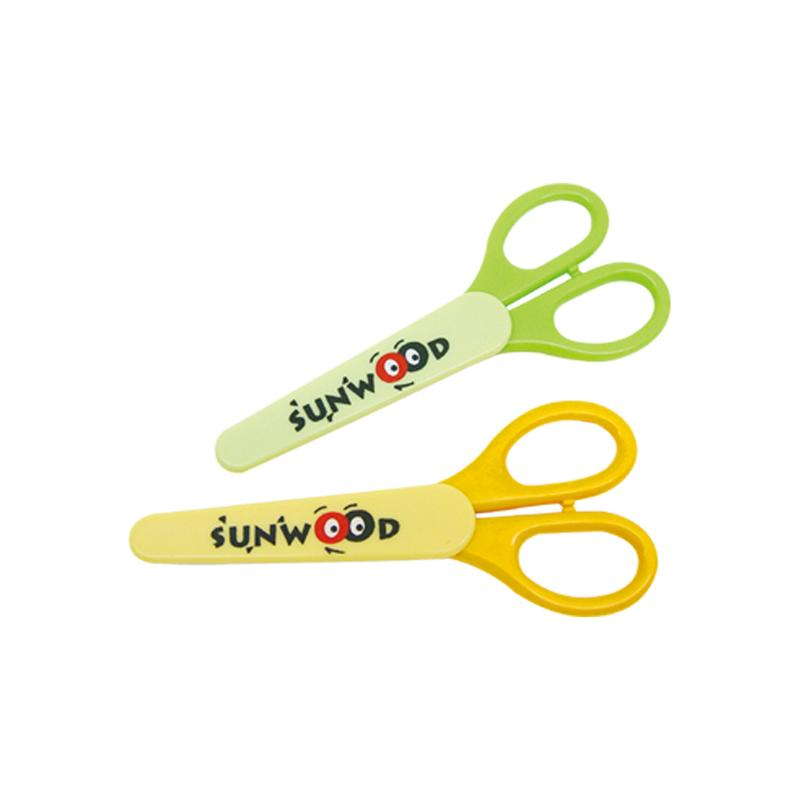scissor: (236, 128, 687, 739)
